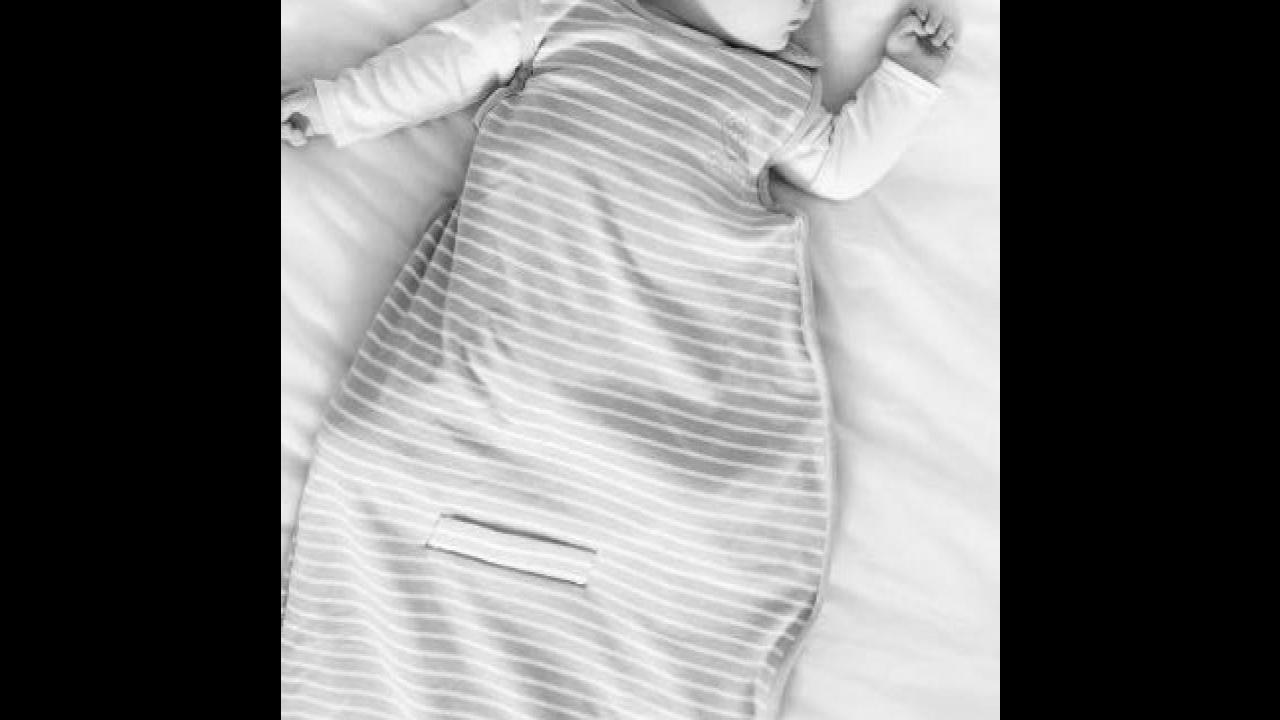hand: (875, 0, 966, 95), (280, 57, 328, 183)
